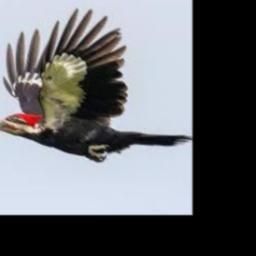Woodpecker: (0, 8, 192, 163)
